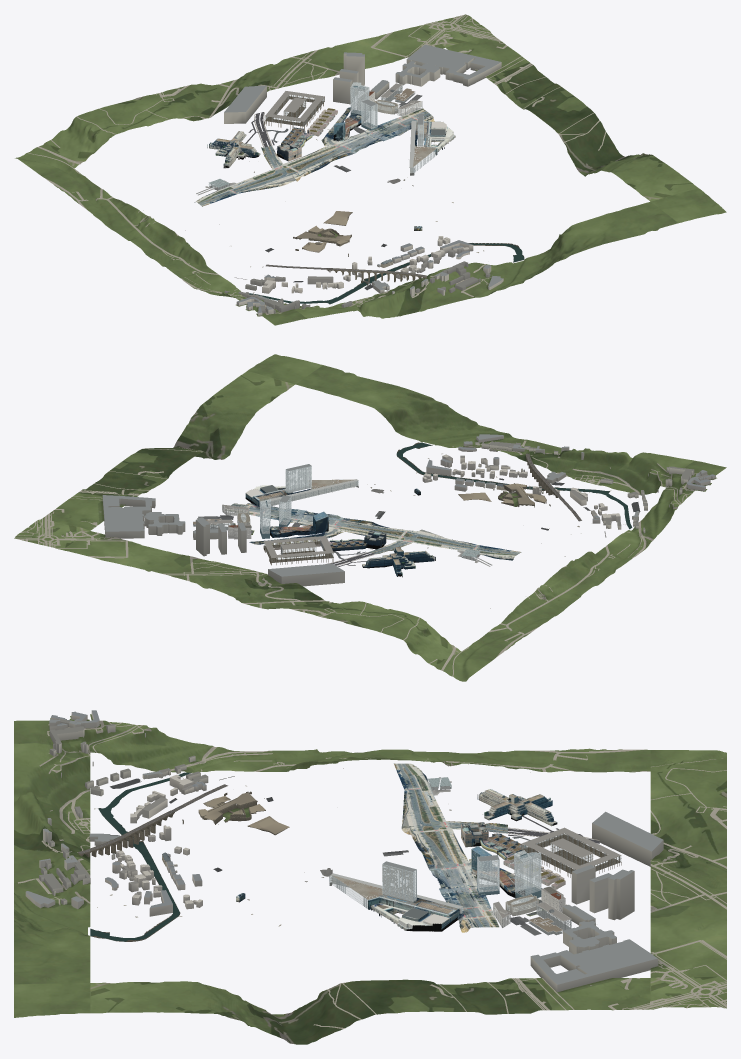
The model's file is authored-district.glb.
3 renders of one model, top to bottom at view 1: azimuth 30°, elevation 25°; view 2: azimuth 150°, elevation 25°; view 3: azimuth 270°, elevation 25°, orthographic. The views are drawn at different scales.
Visible parts, largest first — view 1: R182_EXTENSION_GROUND, R182_DISTRICT_48993285, R168_SOURCE_JUNCTION, R182_EXTENSION_ROADS, R201_NOVOTEL_SUITES, R300_DISTRICT_58609207, R162_MEASURED_ENVELOPE, R181_CLOSED_TRIANGLE_COURT, R255_A_FLOOR_BANDS, R164_MEASURED_ENVELOPE, R187_OUTER_BASTIONS, R202_ALZETTE_00 (+2 smaller); view 2: R182_EXTENSION_GROUND, R182_DISTRICT_48993285, R182_EXTENSION_ROADS, R201_NOVOTEL_SUITES, R168_SOURCE_JUNCTION, R300_DISTRICT_58609207, R162_MEASURED_ENVELOPE, R255_A_FLOOR_BANDS, R164_MEASURED_ENVELOPE, R181_CLOSED_TRIANGLE_COURT, R202_ALZETTE_00, R176_ANNEAU (+1 smaller); view 3: R182_EXTENSION_GROUND, R182_DISTRICT_48993285, R182_EXTENSION_ROADS, R168_SOURCE_JUNCTION, R201_NOVOTEL_SUITES, R300_DISTRICT_58609207, R162_MEASURED_ENVELOPE, R255_A_FLOOR_BANDS, R181_CLOSED_TRIANGLE_COURT, R166_MEASURED_ENVELOPE, R202_ALZETTE_00, R164_MEASURED_ENVELOPE (+5 smaller).
Part boxes in pixels (x1,y1,x2,y2): R182_EXTENSION_GROUND: (15,14,726,325); R182_DISTRICT_48993285: (224,44,503,314); R168_SOURCE_JUNCTION: (194,107,434,206); R182_EXTENSION_ROADS: (27,14,606,314); R201_NOVOTEL_SUITES: (209,82,436,189); R300_DISTRICT_58609207: (236,236,473,316); R162_MEASURED_ENVELOPE: (207,127,313,168); R181_CLOSED_TRIANGLE_COURT: (293,212,524,304); R255_A_FLOOR_BANDS: (350,82,423,145); R164_MEASURED_ENVELOPE: (277,114,364,161); R187_OUTER_BASTIONS: (297,211,352,252); R202_ALZETTE_00: (249,243,524,303); R182_EXTENSION_GROUND: (14,354,726,681); R182_DISTRICT_48993285: (102,434,708,586); R182_EXTENSION_ROADS: (15,440,696,676); R201_NOVOTEL_SUITES: (193,466,480,562); R168_SOURCE_JUNCTION: (227,503,521,560); R300_DISTRICT_58609207: (422,446,715,523); R162_MEASURED_ENVELOPE: (328,539,435,577); R255_A_FLOOR_BANDS: (260,464,311,533); R164_MEASURED_ENVELOPE: (269,511,386,549); R181_CLOSED_TRIANGLE_COURT: (397,442,616,507); R202_ALZETTE_00: (396,442,632,529); R176_ANNEAU: (263,539,333,565); R182_EXTENSION_GROUND: (14,720,726,1044); R182_DISTRICT_48993285: (25,718,663,992); R182_EXTENSION_ROADS: (18,720,726,1028); R168_SOURCE_JUNCTION: (394,763,542,932); R201_NOVOTEL_SUITES: (330,778,621,935); R300_DISTRICT_58609207: (51,710,206,916); R162_MEASURED_ENVELOPE: (477,789,557,860); R255_A_FLOOR_BANDS: (382,850,541,901); R181_CLOSED_TRIANGLE_COURT: (78,773,289,941); R166_MEASURED_ENVELOPE: (329,875,462,931); R202_ALZETTE_00: (90,772,191,941); R164_MEASURED_ENVELOPE: (461,822,528,897).
Size of the model in its own units: 1428 by 182 by 1400.
62 materials, 10 textured.
